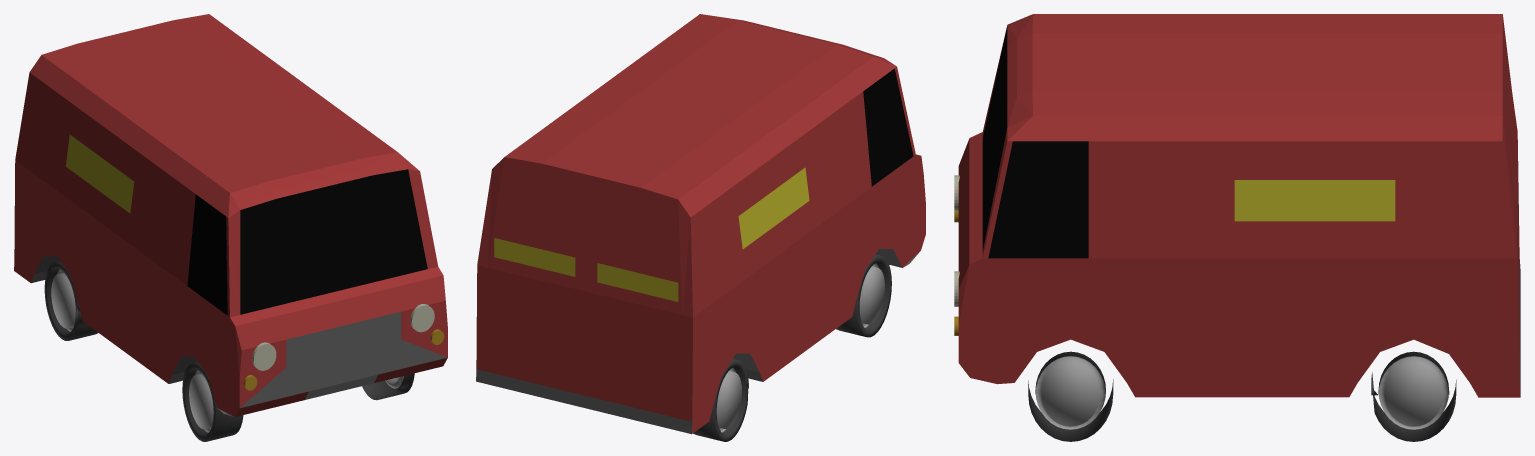
File: morris-j4.dae
The picture shows the model from 3 angles, left to right: view 1: azimuth 30°, elevation 25°; view 2: azimuth 150°, elevation 25°; view 3: azimuth 270°, elevation 25°; orthographic projection. The views are drawn at different scales.
Parts seen in each view (by area): view 1: Cube_001, Plane_001, Cylinder, Cylinder_001; view 2: Cube_001, Plane_001, Plane_003, Plane_002; view 3: Cube_001, Plane.
Part boxes in pixels (left/top/right/bottom): Cube_001: left=14, top=14, right=447, bottom=441; Plane_001: left=65, top=134, right=134, bottom=213; Cylinder: left=252, top=342, right=276, bottom=370; Cylinder_001: left=410, top=304, right=434, bottom=332; Cube_001: left=476, top=14, right=925, bottom=441; Plane_001: left=738, top=167, right=809, bottom=249; Plane_003: left=494, top=238, right=575, bottom=276; Plane_002: left=597, top=263, right=678, bottom=301; Cube_001: left=958, top=14, right=1520, bottom=441; Plane: left=1234, top=180, right=1395, bottom=221.
Size of the model in its own units: 1.23 by 2.33 by 1.45.
